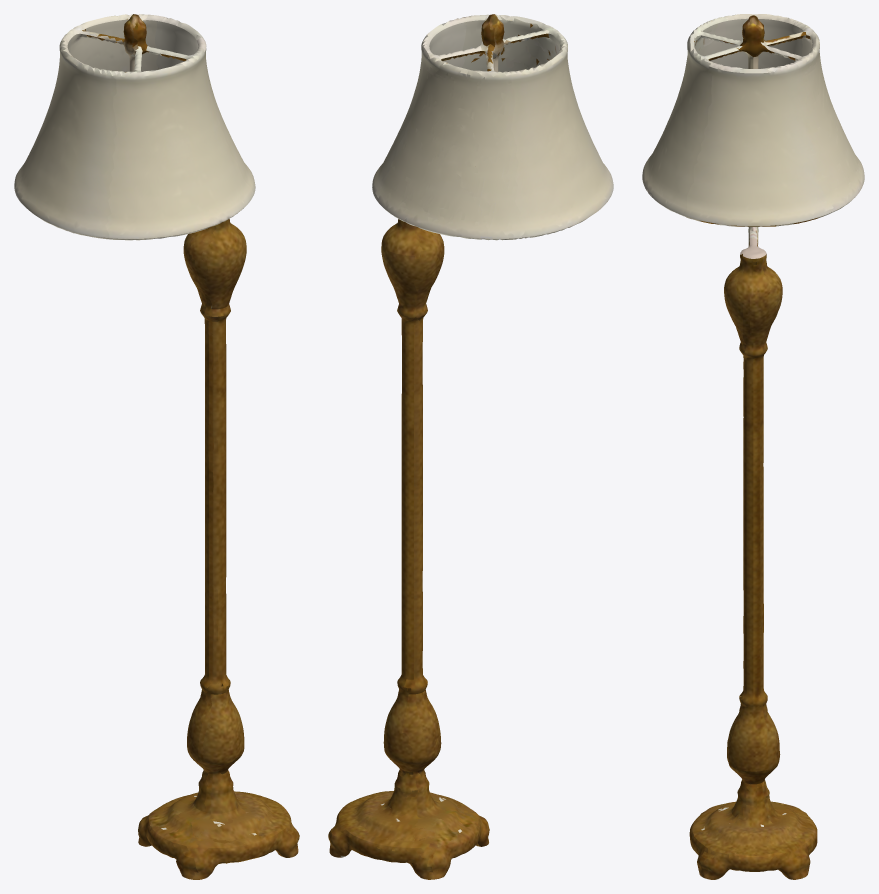
The model's file is lamp__lamp#4.glb.
3 views of the same model, side by side, from view 1: azimuth 30°, elevation 25°; view 2: azimuth 150°, elevation 25°; view 3: azimuth 270°, elevation 25° (orthographic). The views are drawn at different scales.
Visible parts, largest first — view 1: tmp0la_7ym7.ply; view 2: tmp0la_7ym7.ply; view 3: tmp0la_7ym7.ply.
Boxes of the visible parts, x1,y1,x2,y2 form: tmp0la_7ym7.ply: (14,14,299,879); tmp0la_7ym7.ply: (328,14,613,879); tmp0la_7ym7.ply: (642,14,864,879).
Size of the model in its own units: 0.6114 by 1.99 by 0.5001.
Materials: 1 (1 with a texture image).
